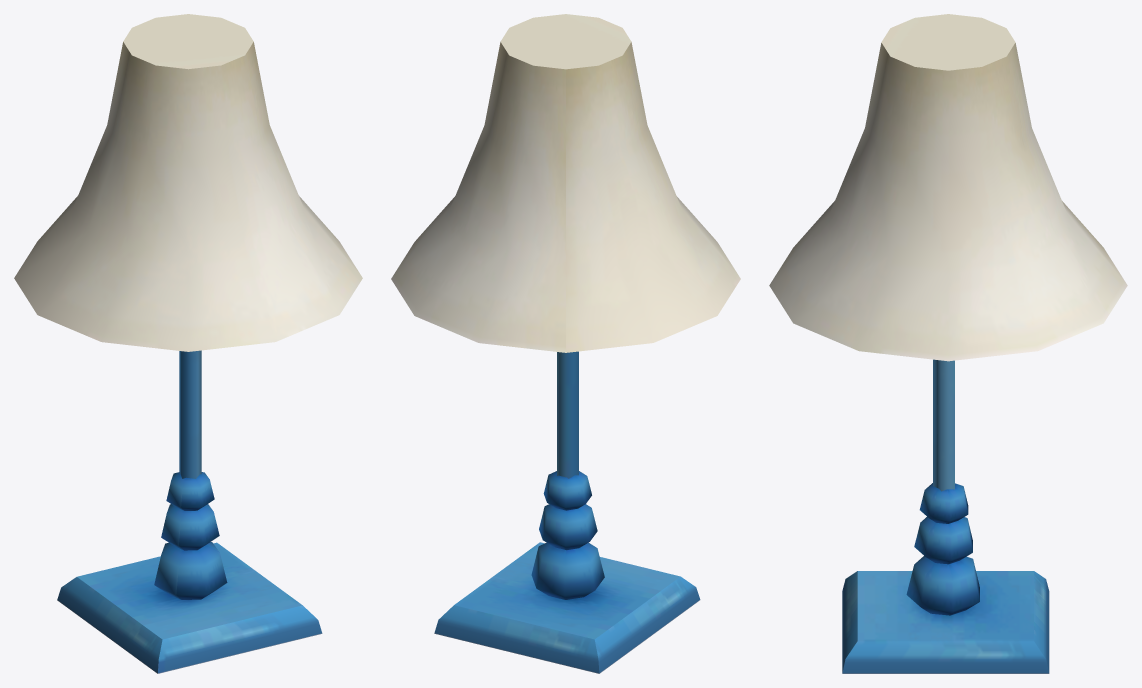
The model's file is furni_0200137_03.FBX.
3 renders of one model, left to right at view 1: azimuth 30°, elevation 25°; view 2: azimuth 150°, elevation 25°; view 3: azimuth 270°, elevation 25°, orthographic. The views are drawn at different scales.
Visible parts, largest first — view 1: furni_0200137_03; view 2: furni_0200137_03; view 3: furni_0200137_03.
Part boxes in pixels (x1,y1,x2,y2): furni_0200137_03: (14,14,362,673); furni_0200137_03: (391,14,740,673); furni_0200137_03: (769,14,1127,673).
Size of the model in its own units: 34.11 by 61.96 by 34.11.
